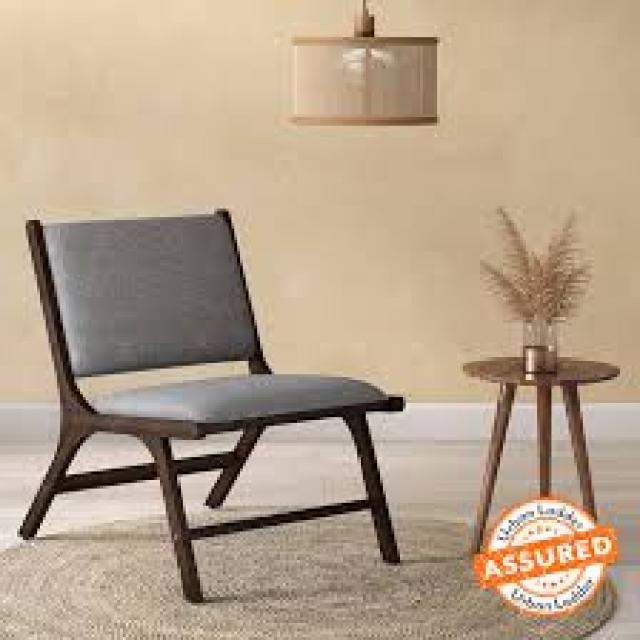chair: (0, 191, 425, 640)
